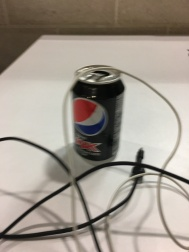can_black: (60, 65, 130, 161)
